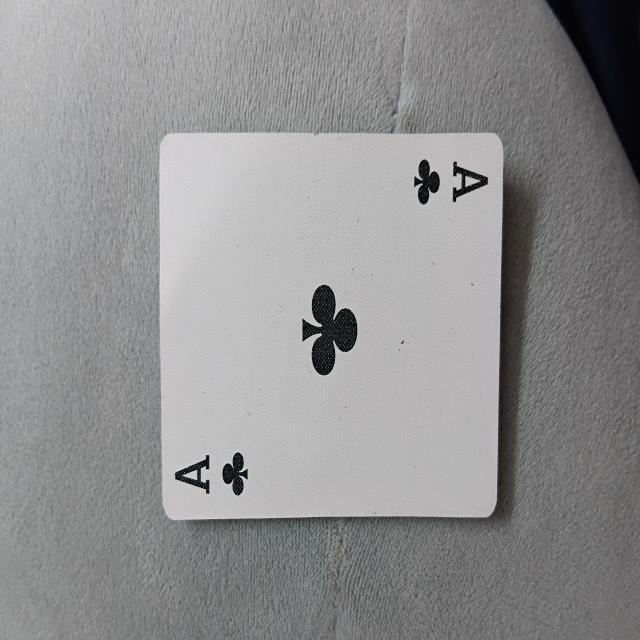AC: (160, 130, 503, 522)
